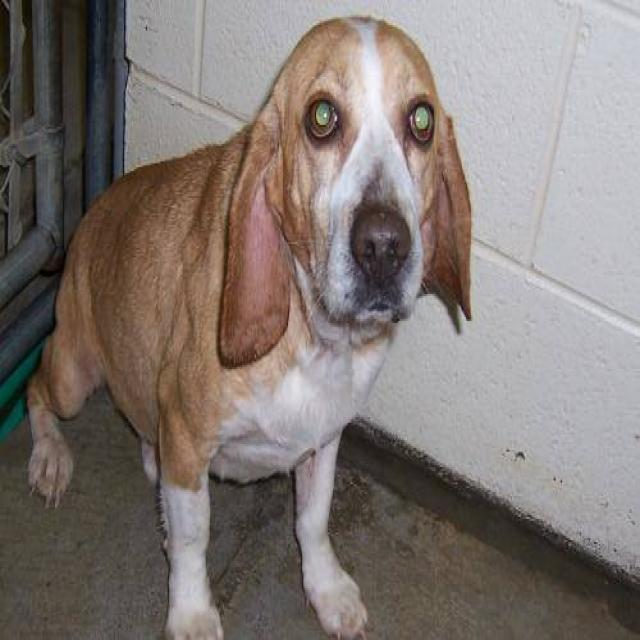dog: (25, 14, 472, 638)
